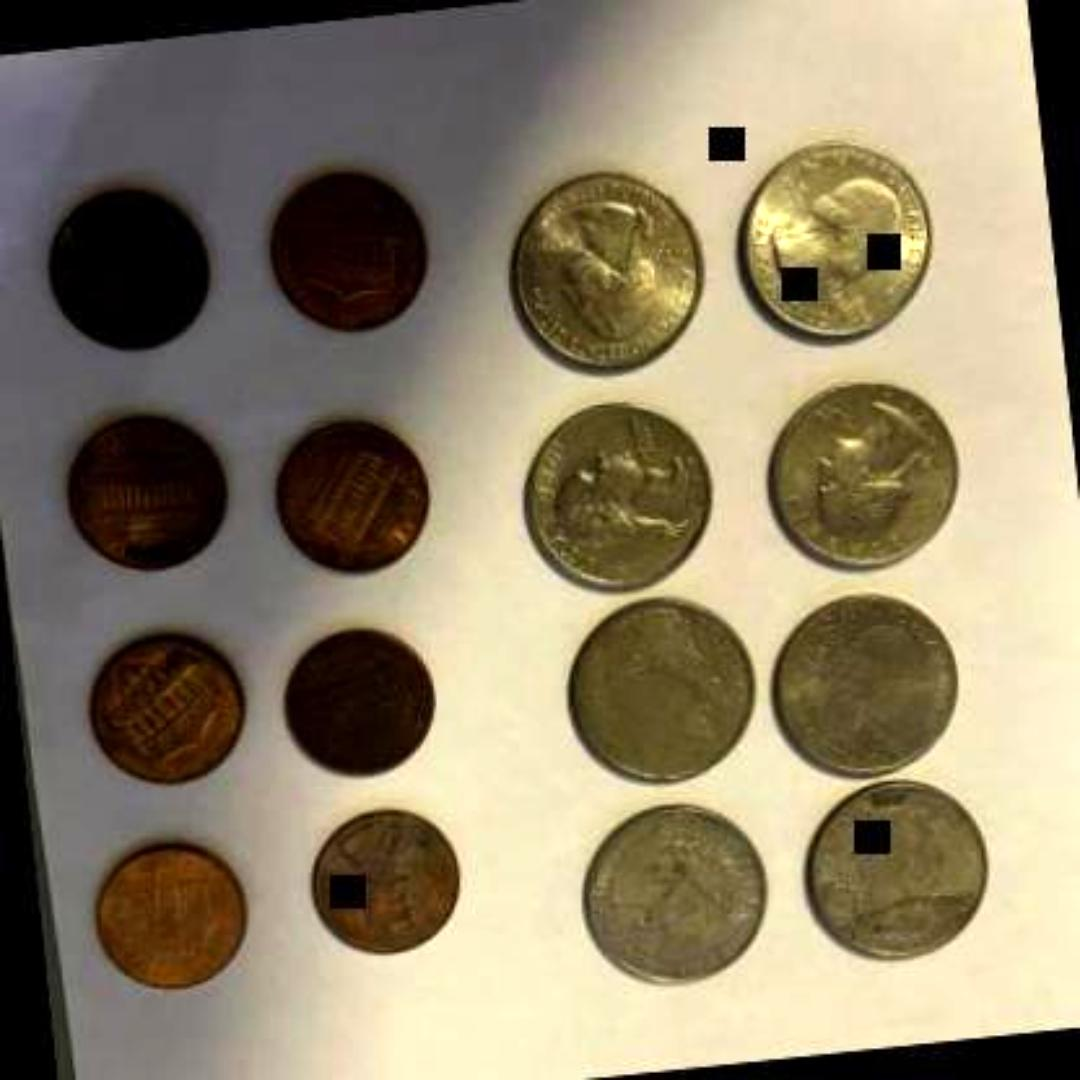Penny: (36, 180, 215, 359), (258, 162, 438, 340), (84, 826, 254, 1004), (268, 410, 440, 582), (60, 410, 233, 581), (268, 614, 440, 782), (78, 621, 250, 789), (300, 800, 468, 962)
Quarter: (724, 131, 946, 359), (495, 158, 713, 382), (749, 369, 974, 581), (752, 582, 967, 788), (554, 588, 769, 790), (566, 793, 776, 998), (515, 395, 720, 600), (793, 770, 998, 972)
